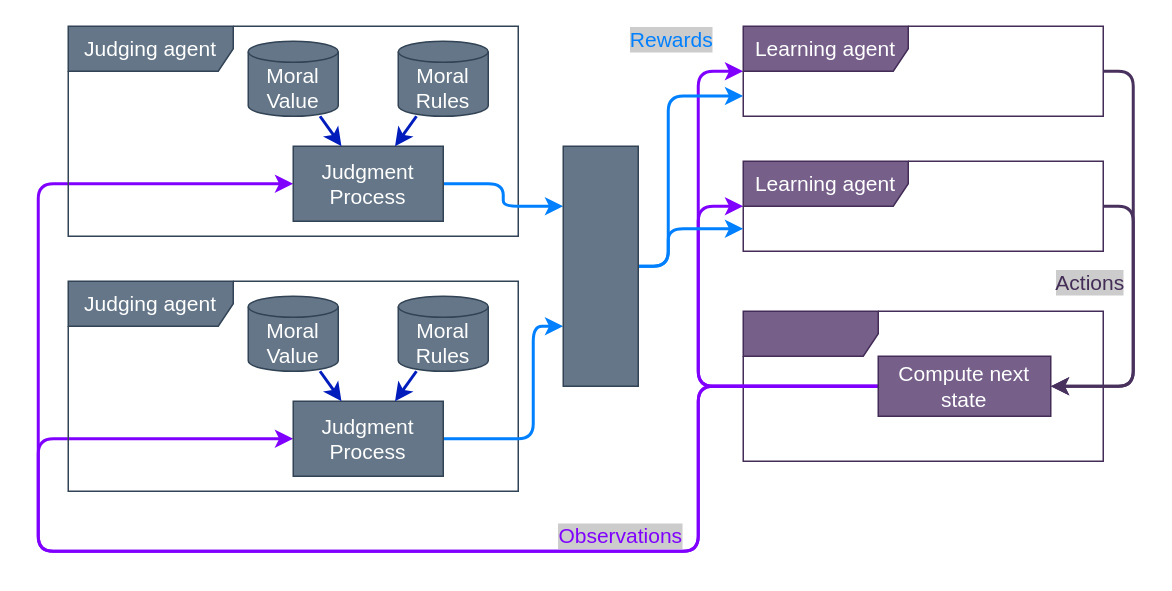
The diagram is 1172 pixels wide and 591 high, and some of its shapes have lost their labels. The shapes that lost their labels are listed below. From the top down, each one's box as (x1, y1, x2, y2) in pixels, then its label:
(562, 145, 638, 386): Aggregation
(742, 310, 1103, 461): Environment
